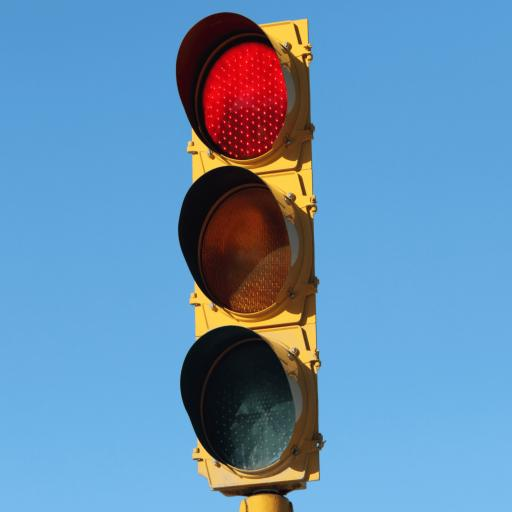traffic light: (174, 11, 326, 505)
